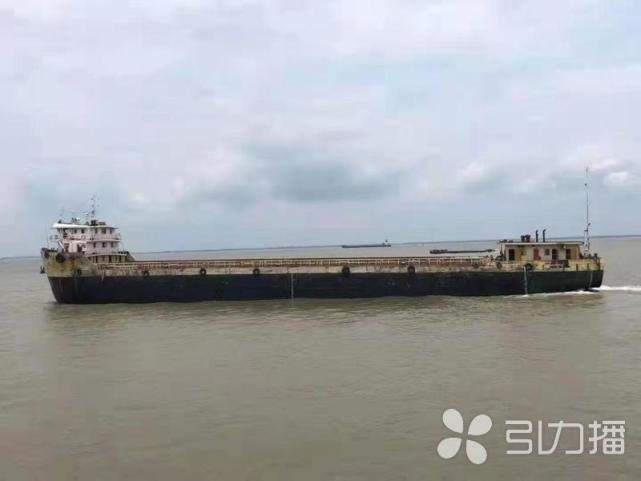Cargoship: (36, 215, 600, 306)
